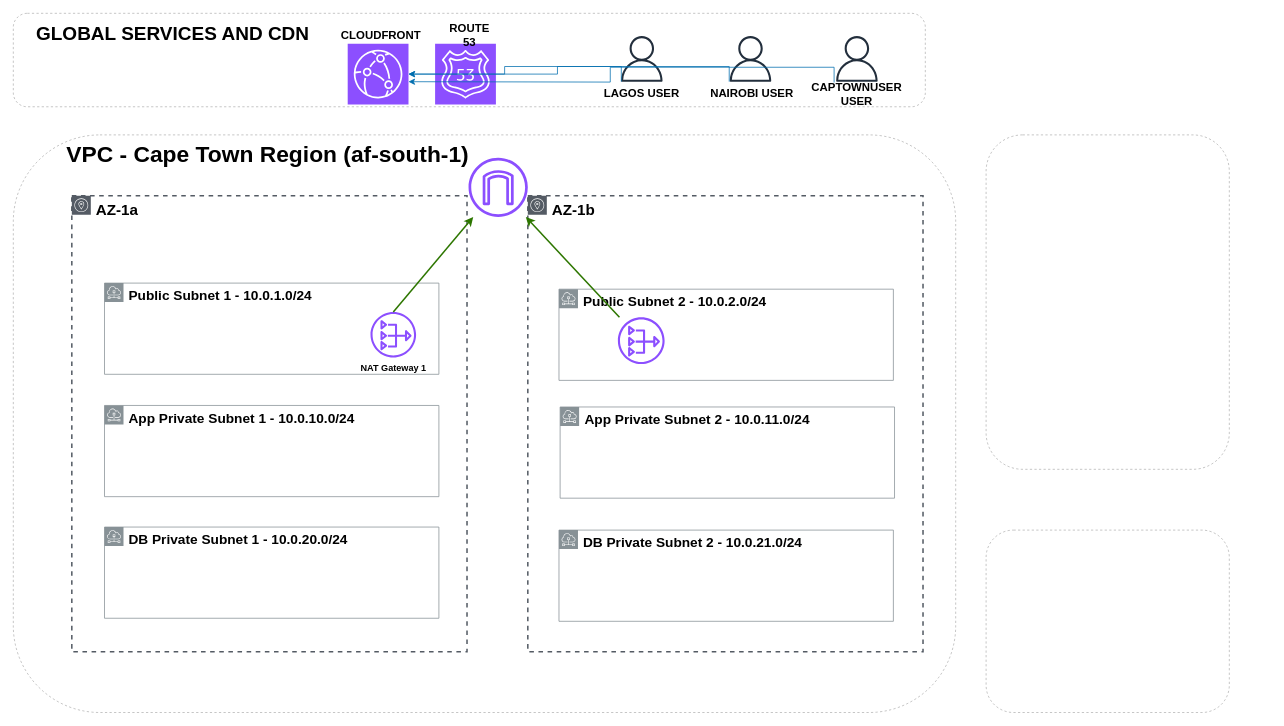
The diagram is 1284 pixels wide and 726 high, and some of its shapes have lost their labels. Here are the shapes that lost their labels. From the top down, the centre of each, then its label:
At point (497, 187): "IGW".
At point (1107, 301): "External Services".
At point (641, 340): "NAT Gateway 2".
At point (1107, 620): "Monitoring & Loggin".
